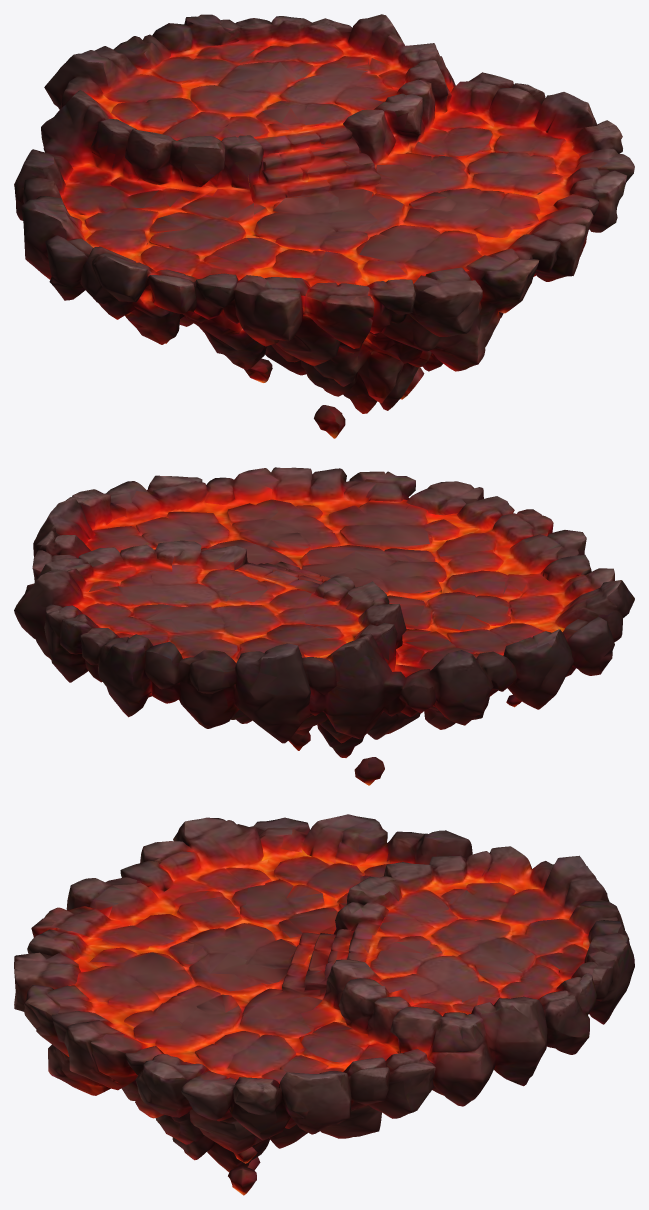
File: R3_Island_Tiered.fbx
3 views of the same model, one above another, from view 1: azimuth 30°, elevation 25°; view 2: azimuth 150°, elevation 25°; view 3: azimuth 270°, elevation 25° (orthographic). The views are drawn at different scales.
Visible parts, largest first — view 1: R3_Island_Tiered; view 2: R3_Island_Tiered; view 3: R3_Island_Tiered.
Boxes of the visible parts, x1,y1,x2,y2 form: R3_Island_Tiered: (14,14,634,438); R3_Island_Tiered: (14,467,634,785); R3_Island_Tiered: (14,814,634,1195).
Size of the model in its own units: 1050 by 500 by 1000.
Materials: 1 (1 with a texture image).
